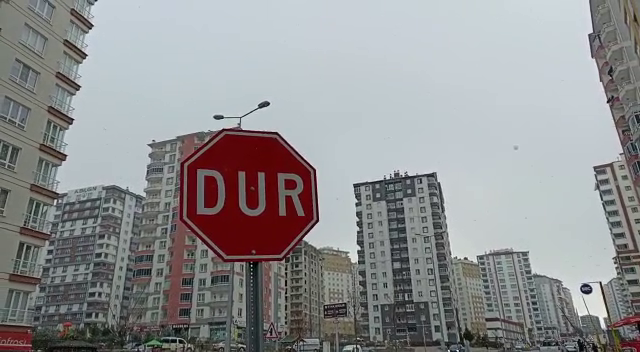stop: (177, 126, 322, 265)
